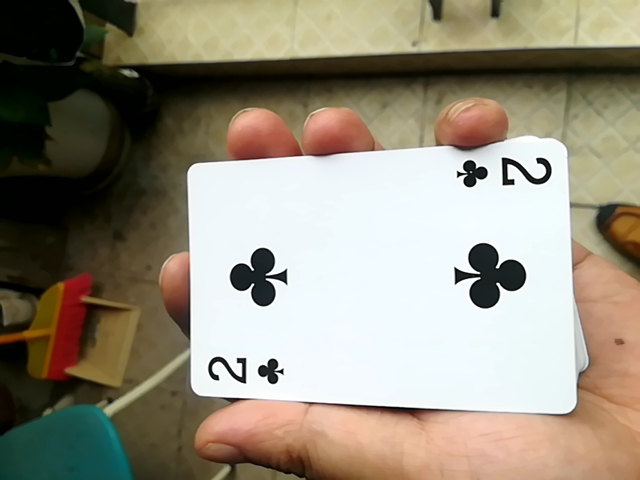mh 2: (179, 139, 575, 419)
